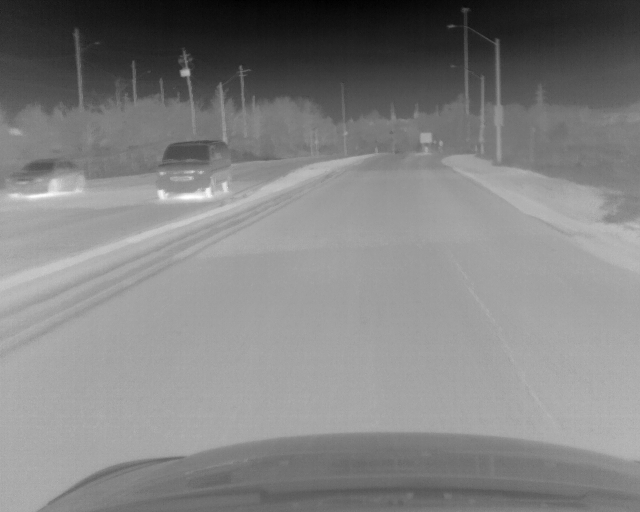car: (154, 140, 233, 200), (3, 157, 86, 197)
